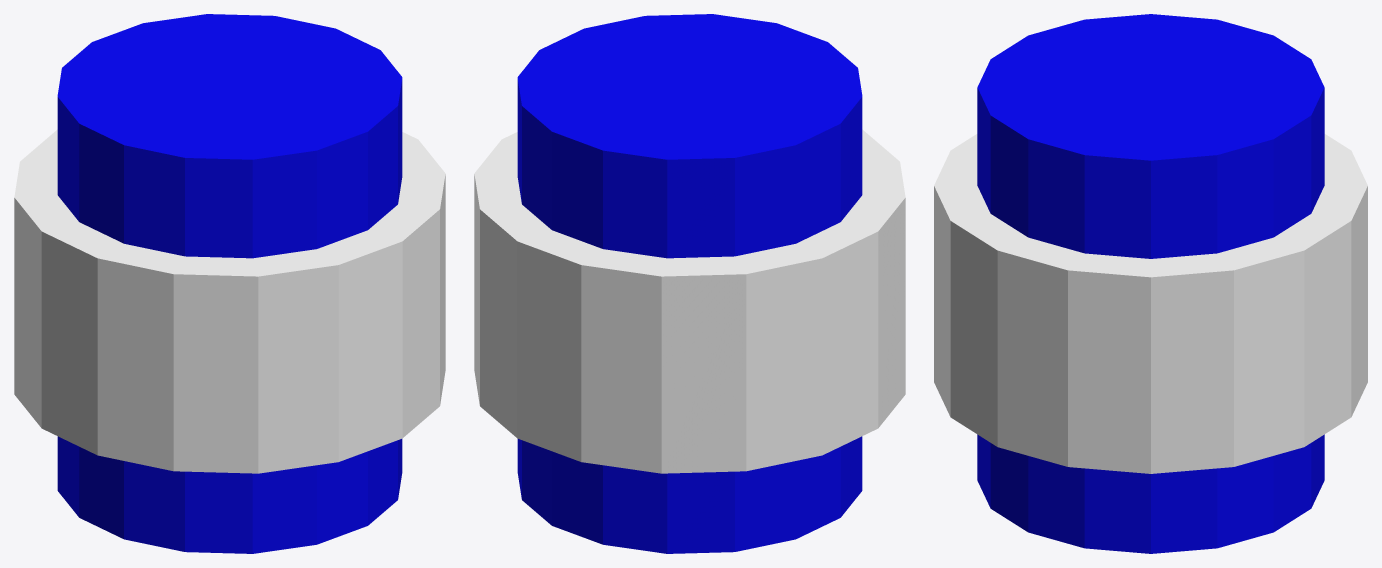
File: miner.dae
3 views of the same model, side by side, from view 1: azimuth 30°, elevation 25°; view 2: azimuth 150°, elevation 25°; view 3: azimuth 270°, elevation 25° (orthographic).
Parts seen in each view (by area): view 1: miner; view 2: miner; view 3: miner.
Part boxes in pixels (<box>): miner: <box>14,14,445,553</box>; miner: <box>474,14,905,553</box>; miner: <box>934,14,1367,553</box>.
Size of the model in its own units: 1 by 1 by 1.
Materials: 1 (1 with a texture image).
